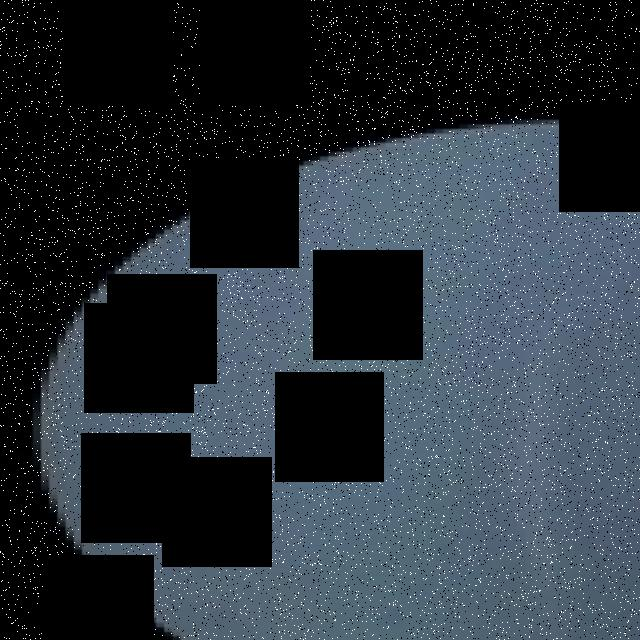Uranus: (41, 114, 640, 640)
